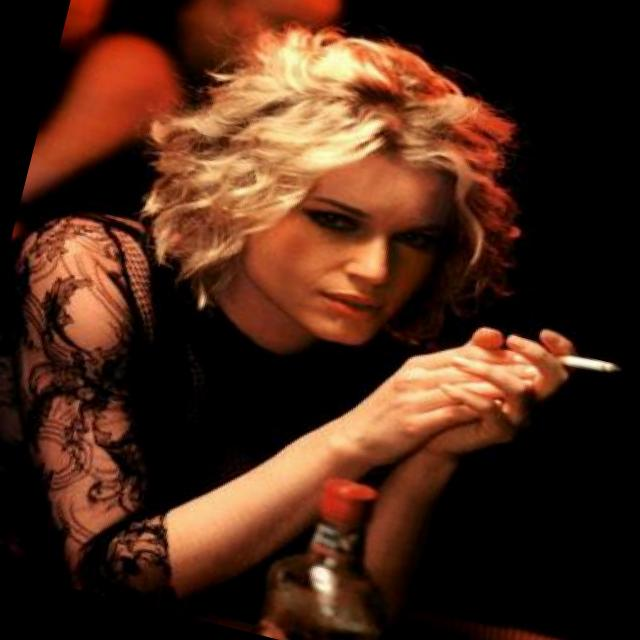smoke: (510, 316, 621, 391)
